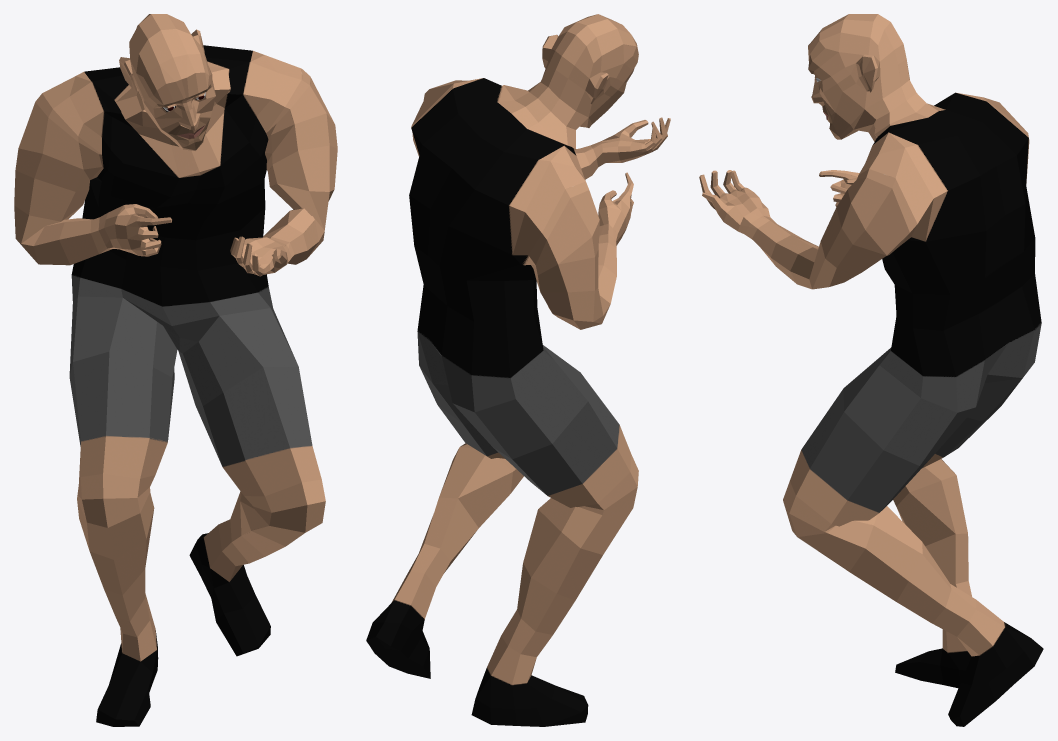
The model's file is PlayerWalk(22).obj.
3 renders of one model, left to right at view 1: azimuth 30°, elevation 25°; view 2: azimuth 150°, elevation 25°; view 3: azimuth 270°, elevation 25°, orthographic. The views are drawn at different scales.
Visible parts, largest first — view 1: Plane002; view 2: Plane002; view 3: Plane002.
Boxes of the visible parts, left/top/right/bottom form: Plane002: left=14, top=14, right=337, bottom=726; Plane002: left=366, top=14, right=670, bottom=726; Plane002: left=699, top=14, right=1043, bottom=726.
Size of the model in its own units: 576 by 1583 by 746.
